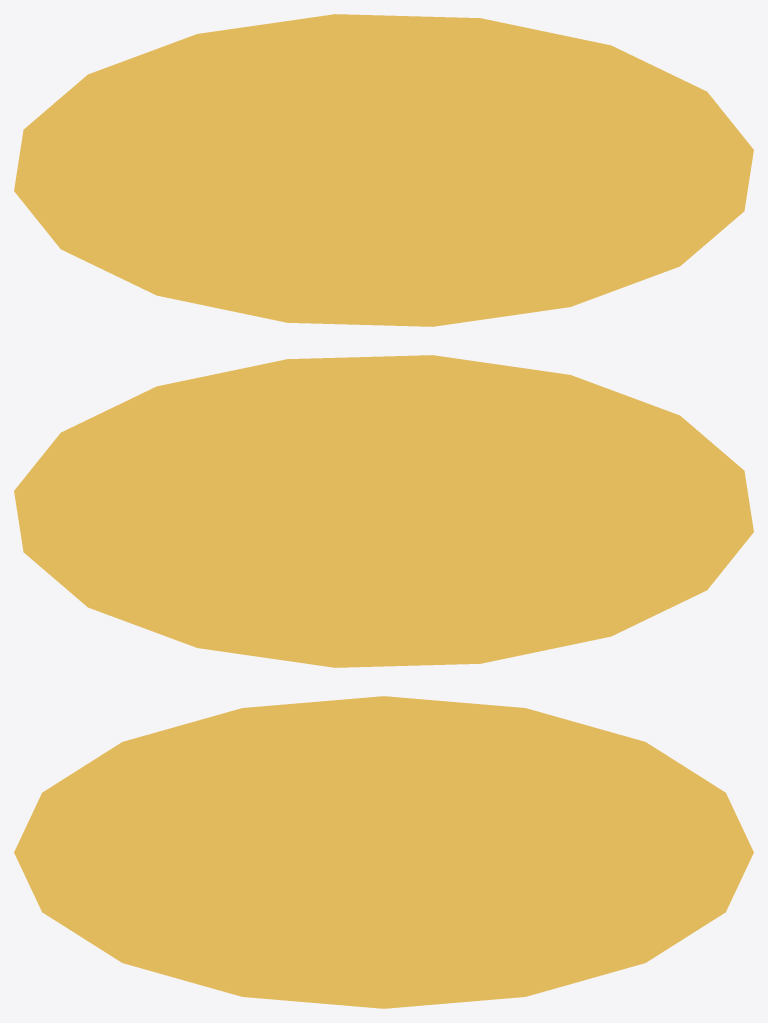
File: marble-center-high-col.glb
3 renders of one model, top to bottom at view 1: azimuth 30°, elevation 25°; view 2: azimuth 150°, elevation 25°; view 3: azimuth 270°, elevation 25°, orthographic.
Parts seen in each view (by area): view 1: marble-center-high-col; view 2: marble-center-high-col; view 3: marble-center-high-col.
Boxes of the visible parts, bbox=[...] form: marble-center-high-col: bbox=[14, 14, 753, 326]; marble-center-high-col: bbox=[14, 355, 753, 667]; marble-center-high-col: bbox=[14, 696, 753, 1008].
Bounding box in the file's own units: 0.3939 × 0 × 0.3939.
Materials: 1 (1 with a texture image).
